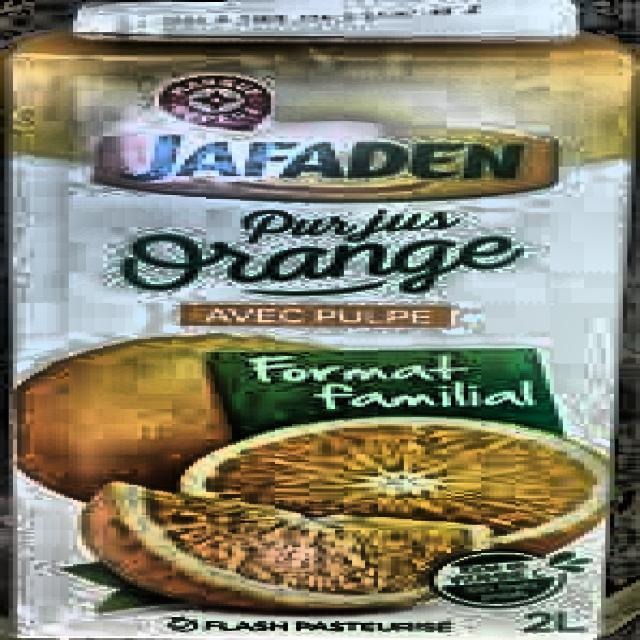cardboard: (0, 7, 636, 638)
